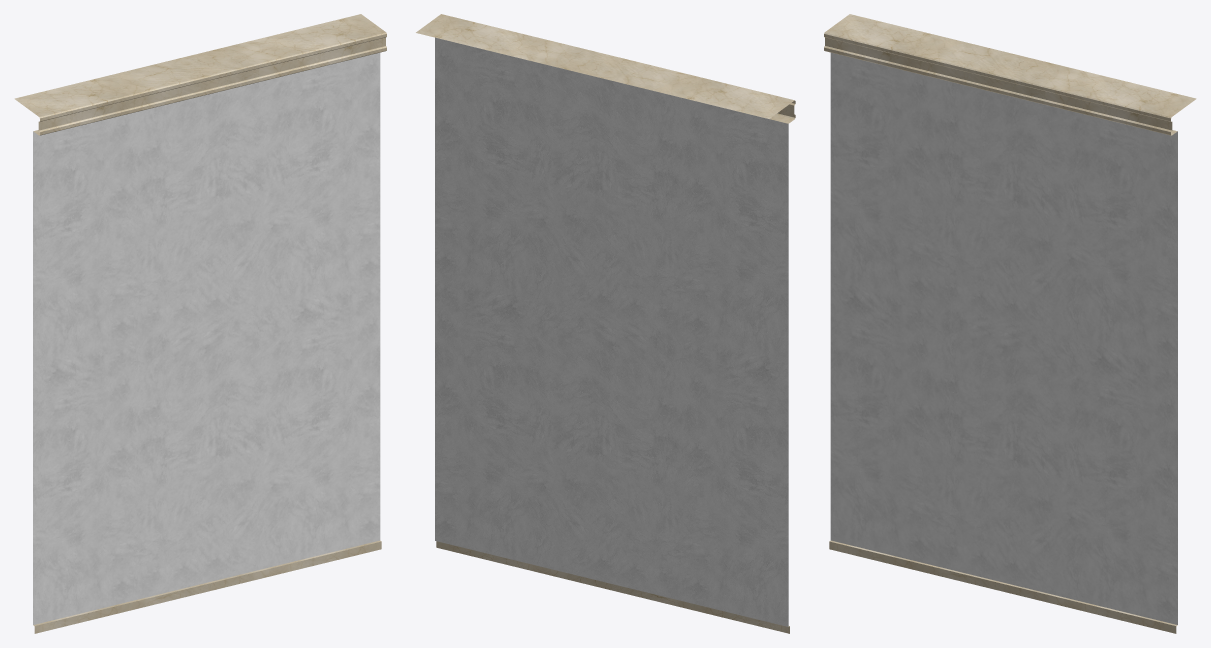
3 renders of one model, left to right at view 1: azimuth 30°, elevation 25°; view 2: azimuth 150°, elevation 25°; view 3: azimuth 330°, elevation 25°, orthographic.
Parts seen in each view (by area): view 1: M_W_201_d_4x6; view 2: M_W_201_d_4x6; view 3: M_W_201_d_4x6.
Part boxes in pixels (<box>): M_W_201_d_4x6: <box>14,14,386,633</box>; M_W_201_d_4x6: <box>416,14,795,633</box>; M_W_201_d_4x6: <box>824,14,1196,633</box>.
Size of the model in its own units: 4.2 by 6.02 by 0.5409.
